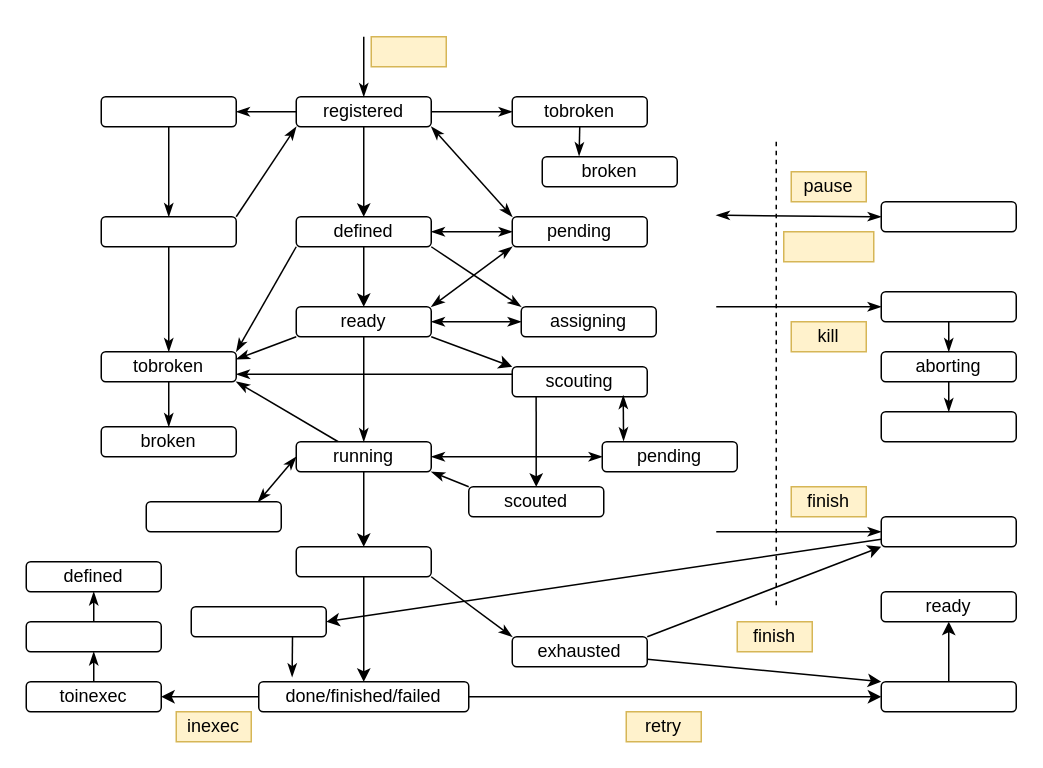
Some shapes in this 1043 by 768 pixel diagram are drawn without their labels. Here are the shapes that lost their labels. From the top down, the centre of each, then its label:
At (408,51): "submit".
At (168,111): "topreprocess".
At (168,231): "preprocessing".
At (948,216): "paused".
At (828,246): "resume".
At (948,306): "toabort".
At (948,426): "aborted".
At (213,516): "throttled".
At (948,531): "finishing".
At (363,561): "prepared".
At (93,636): "rerefine".
At (258,621): "passed".
At (948,696): "toretry".
